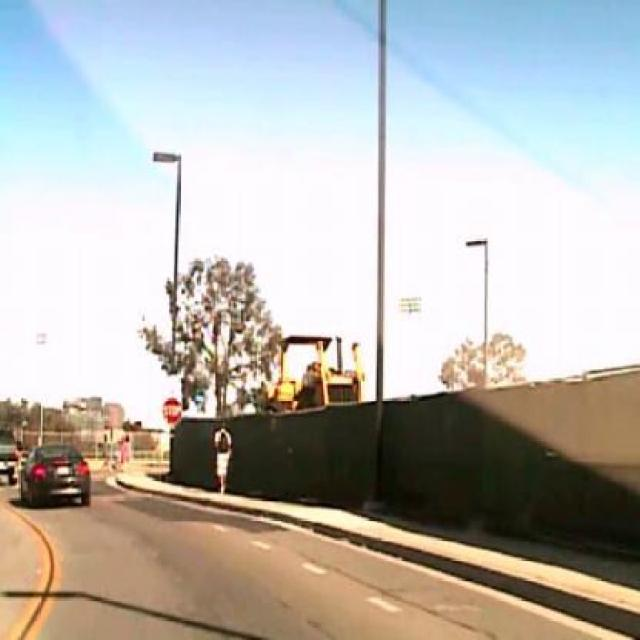stop: (163, 396, 183, 427)
